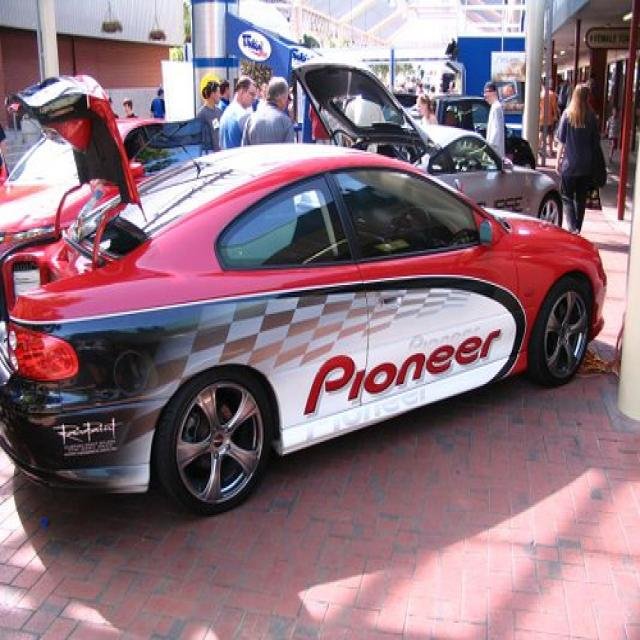light_vehicle: (0, 69, 609, 522), (287, 54, 563, 230)
